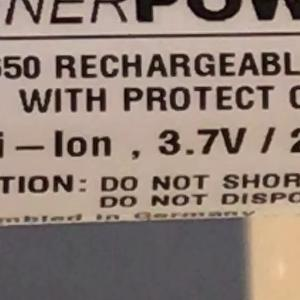keyword: (148, 117, 256, 165)
